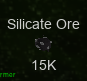Silicate: (8, 18, 80, 71)
